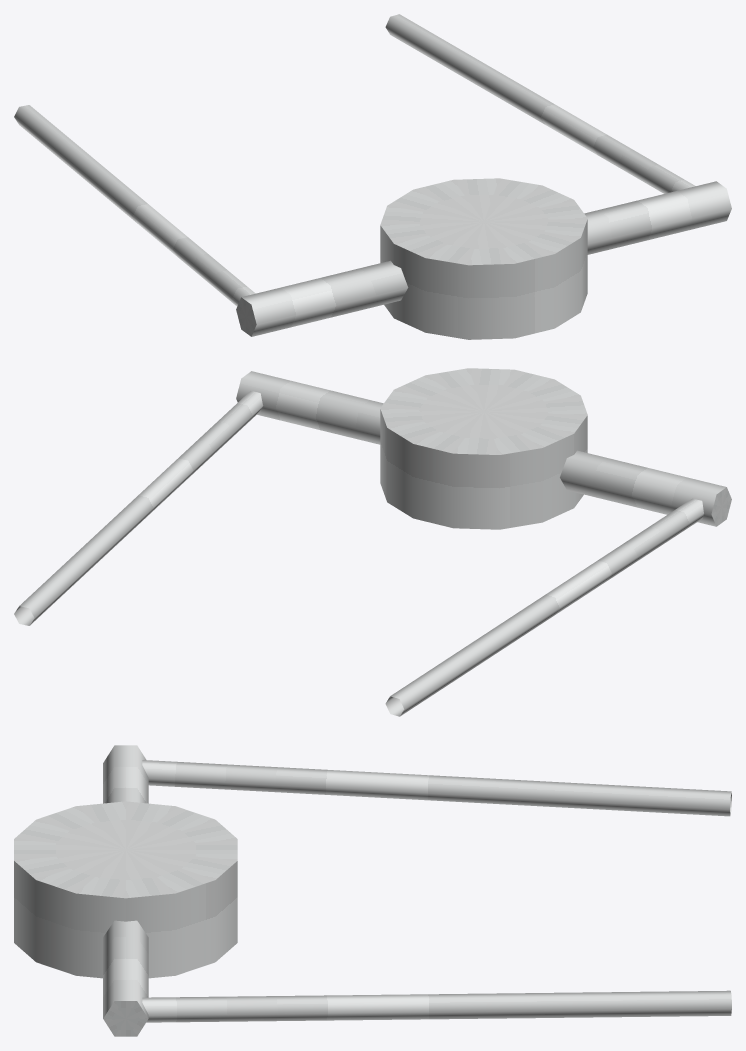
File: nycsignalarm_regular8_c0_thin.obj
3 renders of one model, top to bottom at view 1: azimuth 30°, elevation 25°; view 2: azimuth 150°, elevation 25°; view 3: azimuth 270°, elevation 25°, orthographic. The views are drawn at different scales.
Visible parts, largest first — view 1: nycsignalarm_regular8_c0_thin; view 2: nycsignalarm_regular8_c0_thin; view 3: nycsignalarm_regular8_c0_thin.
Part boxes in pixels (<box>): nycsignalarm_regular8_c0_thin: <box>14,14,731,339</box>; nycsignalarm_regular8_c0_thin: <box>14,368,731,716</box>; nycsignalarm_regular8_c0_thin: <box>14,745,731,1036</box>.
Size of the model in its own units: 1.5 by 0.225 by 1.78.
